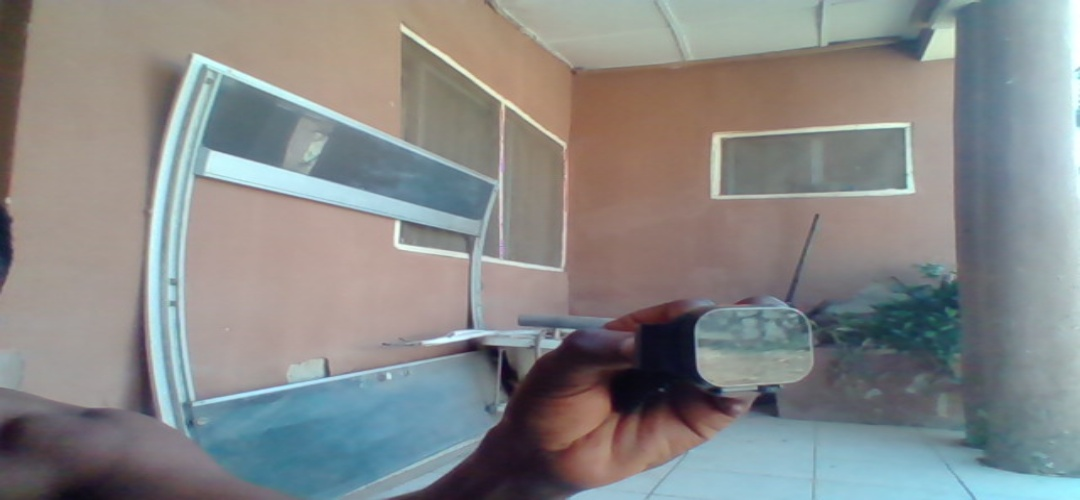smart_watch: (639, 304, 820, 396)
